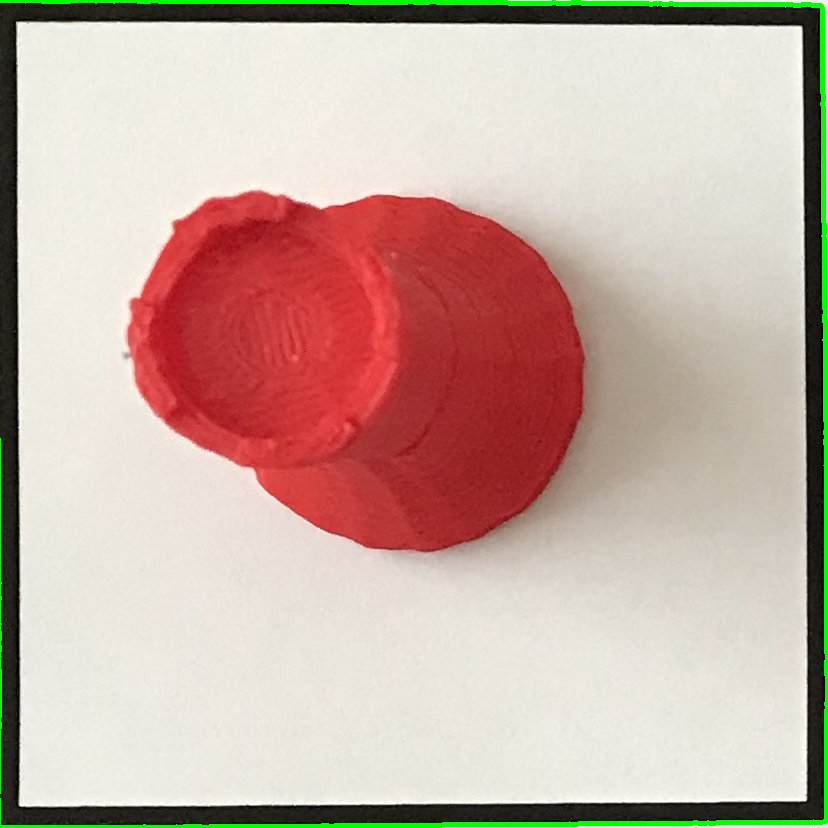Red Castle: (116, 170, 589, 555)
